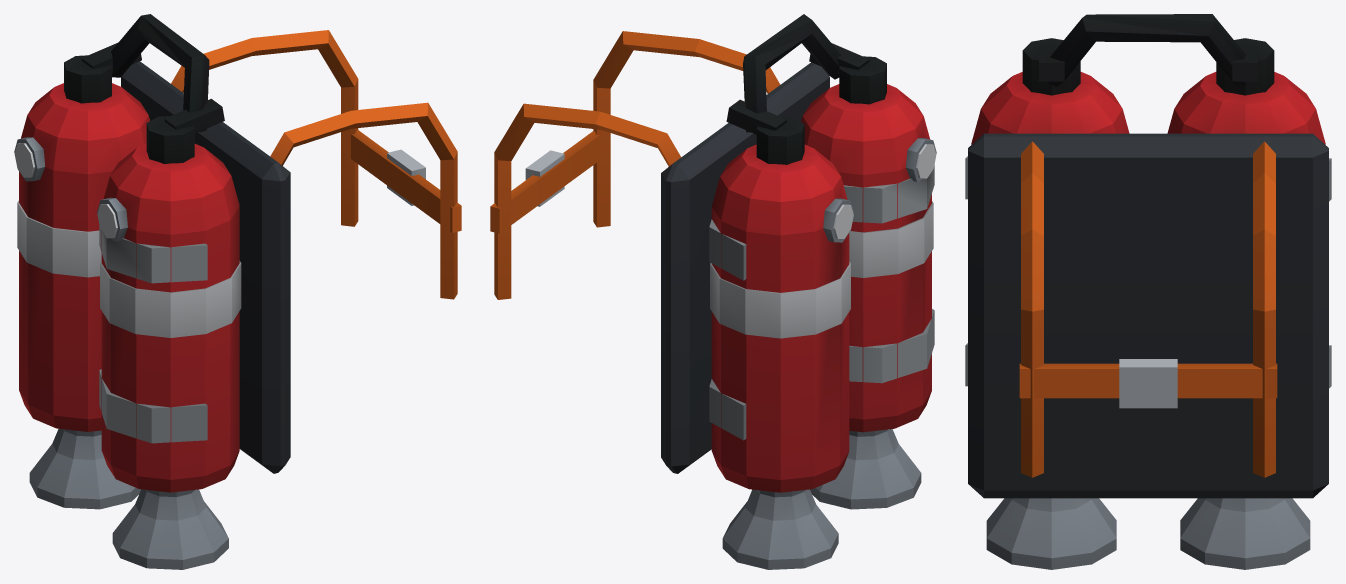
The model's file is jetpack.glb.
The picture shows the model from 3 angles, left to right: view 1: azimuth 30°, elevation 25°; view 2: azimuth 150°, elevation 25°; view 3: azimuth 270°, elevation 25°; orthographic projection. The views are drawn at different scales.
Parts seen in each view (by area): view 1: Body, NozzleR, NozzleL; view 2: Body, NozzleL, NozzleR; view 3: Body, NozzleL, NozzleR.
Boxes of the visible parts, x1,y1,x2,y2 form: Body: [14, 14, 461, 492]; NozzleR: [112, 489, 228, 569]; NozzleL: [29, 428, 140, 509]; Body: [490, 14, 936, 492]; NozzleL: [722, 489, 838, 569]; NozzleR: [810, 429, 921, 509]; Body: [965, 14, 1331, 498]; NozzleL: [1180, 498, 1310, 569]; NozzleR: [986, 498, 1116, 569].
Bounding box in the file's own units: 0.729 × 0.9408 × 0.568.
